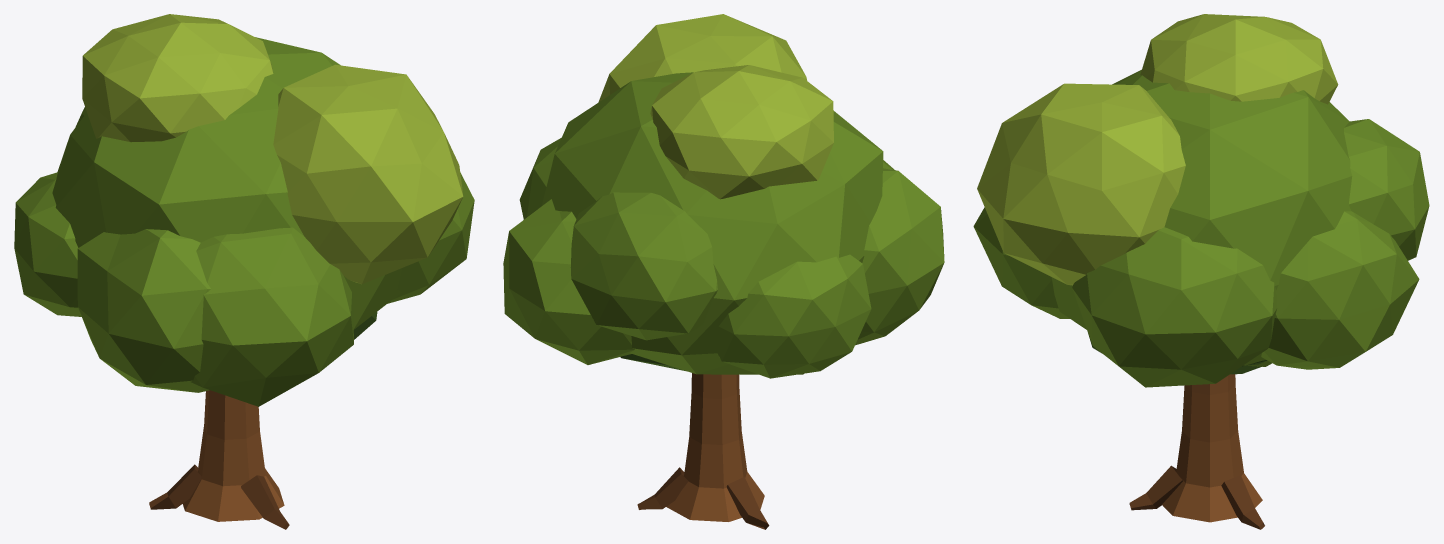
The model's file is arbre_rond.glb.
3 renders of one model, left to right at view 1: azimuth 30°, elevation 25°; view 2: azimuth 150°, elevation 25°; view 3: azimuth 270°, elevation 25°, orthographic. The views are drawn at different scales.
Parts seen in each view (by area): view 1: arbre_rond; view 2: arbre_rond; view 3: arbre_rond.
Boxes of the visible parts, x1,y1,x2,y2 form: arbre_rond: (14, 14, 474, 529); arbre_rond: (503, 14, 944, 529); arbre_rond: (973, 14, 1429, 529).
Size of the model in its own units: 5.17 by 6.05 by 5.36.
